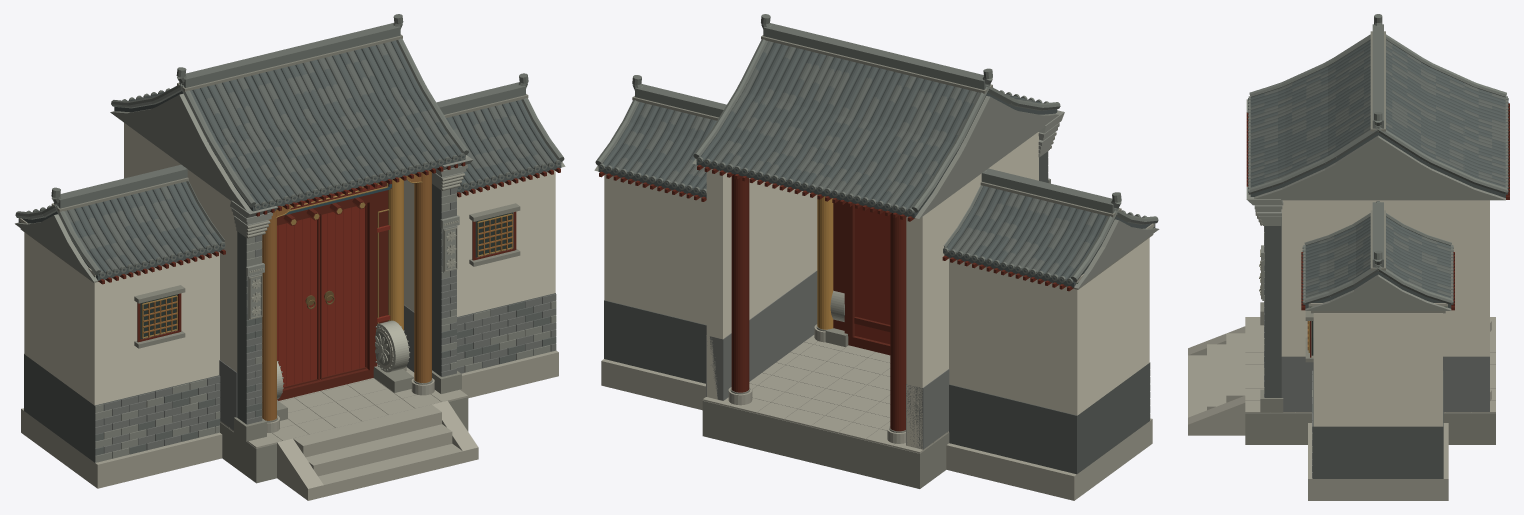
Rendered from Jinzhu_Gate.obj.
3 views of the same model, side by side, from view 1: azimuth 30°, elevation 25°; view 2: azimuth 150°, elevation 25°; view 3: azimuth 270°, elevation 25° (orthographic). The views are drawn at different scales.
Parts seen in each view (by area): view 1: 82_Left_Wing_Plaster_plaster, 90_Main_Barrel_Tiles_tile, 90_Main_Barrel_Tiles_tile2, 82_Right_Wing_Plaster_plaster, 03_Three_Steps_stone, 35_Door_Right_wood_door, 20_Front_Eave_Columns_eave_column_ochre, 35_Door_Left_wood_door, 02_Main_Paving_stone, 91_Wing_Left_Barrel_Tiles_tile, 10_Left_Side_Wall_plaster, 80_Left_Wing_Foundation_stone (+47 smaller); view 2: 82_Left_Wing_Plaster_plaster, 90_Main_Barrel_Tiles_tile, 82_Right_Wing_Plaster_plaster, 10_Right_Side_Wall_plaster, 81_Left_Wing_Brick_Base_Core_mortar, 02_Main_Paving_stone, 10_Left_Side_Wall_plaster, 90_Main_Barrel_Tiles_tile2, 01_Main_Platform_stone_dark, 20_Rear_Eave_Columns_wood_frame, 81_Right_Wing_Brick_Base_Core_mortar, 91_Wing_Left_Barrel_Tiles_tile (+24 smaller); view 3: 90_Main_Barrel_Tiles_tile, 82_Right_Wing_Plaster_plaster, 10_Right_Side_Wall_plaster, 90_Main_Barrel_Tiles_tile2, 90_Main_Gable_Wall_brick_light, 81_Right_Wing_Brick_Base_Core_mortar, 91_Wing_Right_Barrel_Tiles_tile, 11_Right_Side_Brick_Base_brick, 80_Right_Wing_Foundation_stone, 03_Three_Steps_stone, 01_Main_Platform_stone_dark, 90_Main_Gable_Coping_ridge (+16 smaller).
Boxes of the visible parts, <box> form: 82_Left_Wing_Plaster_plaster: <box>24,232,219,405</box>; 90_Main_Barrel_Tiles_tile: <box>130,40,461,207</box>; 90_Main_Barrel_Tiles_tile2: <box>137,41,454,201</box>; 82_Right_Wing_Plaster_plaster: <box>457,170,555,316</box>; 03_Three_Steps_stone: <box>293,404,462,496</box>; 35_Door_Right_wood_door: <box>318,206,367,380</box>; 20_Front_Eave_Columns_eave_column_ochre: <box>262,170,431,420</box>; 35_Door_Left_wood_door: <box>277,217,318,386</box>; 02_Main_Paving_stone: <box>220,367,467,448</box>; 91_Wing_Left_Barrel_Tiles_tile: <box>35,181,222,275</box>; 10_Left_Side_Wall_plaster: <box>124,123,237,372</box>; 80_Left_Wing_Foundation_stone: <box>21,408,222,488</box>; 82_Left_Wing_Plaster_plaster: <box>949,238,1149,415</box>; 90_Main_Barrel_Tiles_tile: <box>700,42,1040,210</box>; 82_Right_Wing_Plaster_plaster: <box>604,174,706,324</box>; 10_Right_Side_Wall_plaster: <box>706,169,817,399</box>; 81_Left_Wing_Brick_Base_Core_mortar: <box>949,363,1149,474</box>; 02_Main_Paving_stone: <box>703,335,948,453</box>; 10_Left_Side_Wall_plaster: <box>906,132,1038,449</box>; 90_Main_Barrel_Tiles_tile2: <box>713,41,1033,212</box>; 01_Main_Platform_stone_dark: <box>702,400,949,488</box>; 20_Rear_Eave_Columns_wood_frame: <box>731,174,906,431</box>; 81_Right_Wing_Brick_Base_Core_mortar: <box>604,300,706,383</box>; 91_Wing_Left_Barrel_Tiles_tile: <box>946,186,1107,282</box>; 90_Main_Barrel_Tiles_tile: <box>1250,40,1505,193</box>; 82_Right_Wing_Plaster_plaster: <box>1313,313,1442,426</box>; 10_Right_Side_Wall_plaster: <box>1281,200,1489,356</box>; 90_Main_Barrel_Tiles_tile2: <box>1250,40,1505,185</box>; 90_Main_Gable_Wall_brick_light: <box>1254,135,1505,200</box>; 81_Right_Wing_Brick_Base_Core_mortar: <box>1313,370,1443,478</box>; 91_Wing_Right_Barrel_Tiles_tile: <box>1305,217,1451,304</box>; 11_Right_Side_Brick_Base_brick: <box>1281,356,1489,411</box>; 80_Right_Wing_Foundation_stone: <box>1308,423,1448,500</box>; 03_Three_Steps_stone: <box>1188,333,1245,417</box>; 01_Main_Platform_stone_dark: <box>1245,412,1495,444</box>; 90_Main_Gable_Coping_ridge: <box>1249,34,1506,193</box>.
Size of the model in its own units: 6.64 by 4.84 by 4.23.
